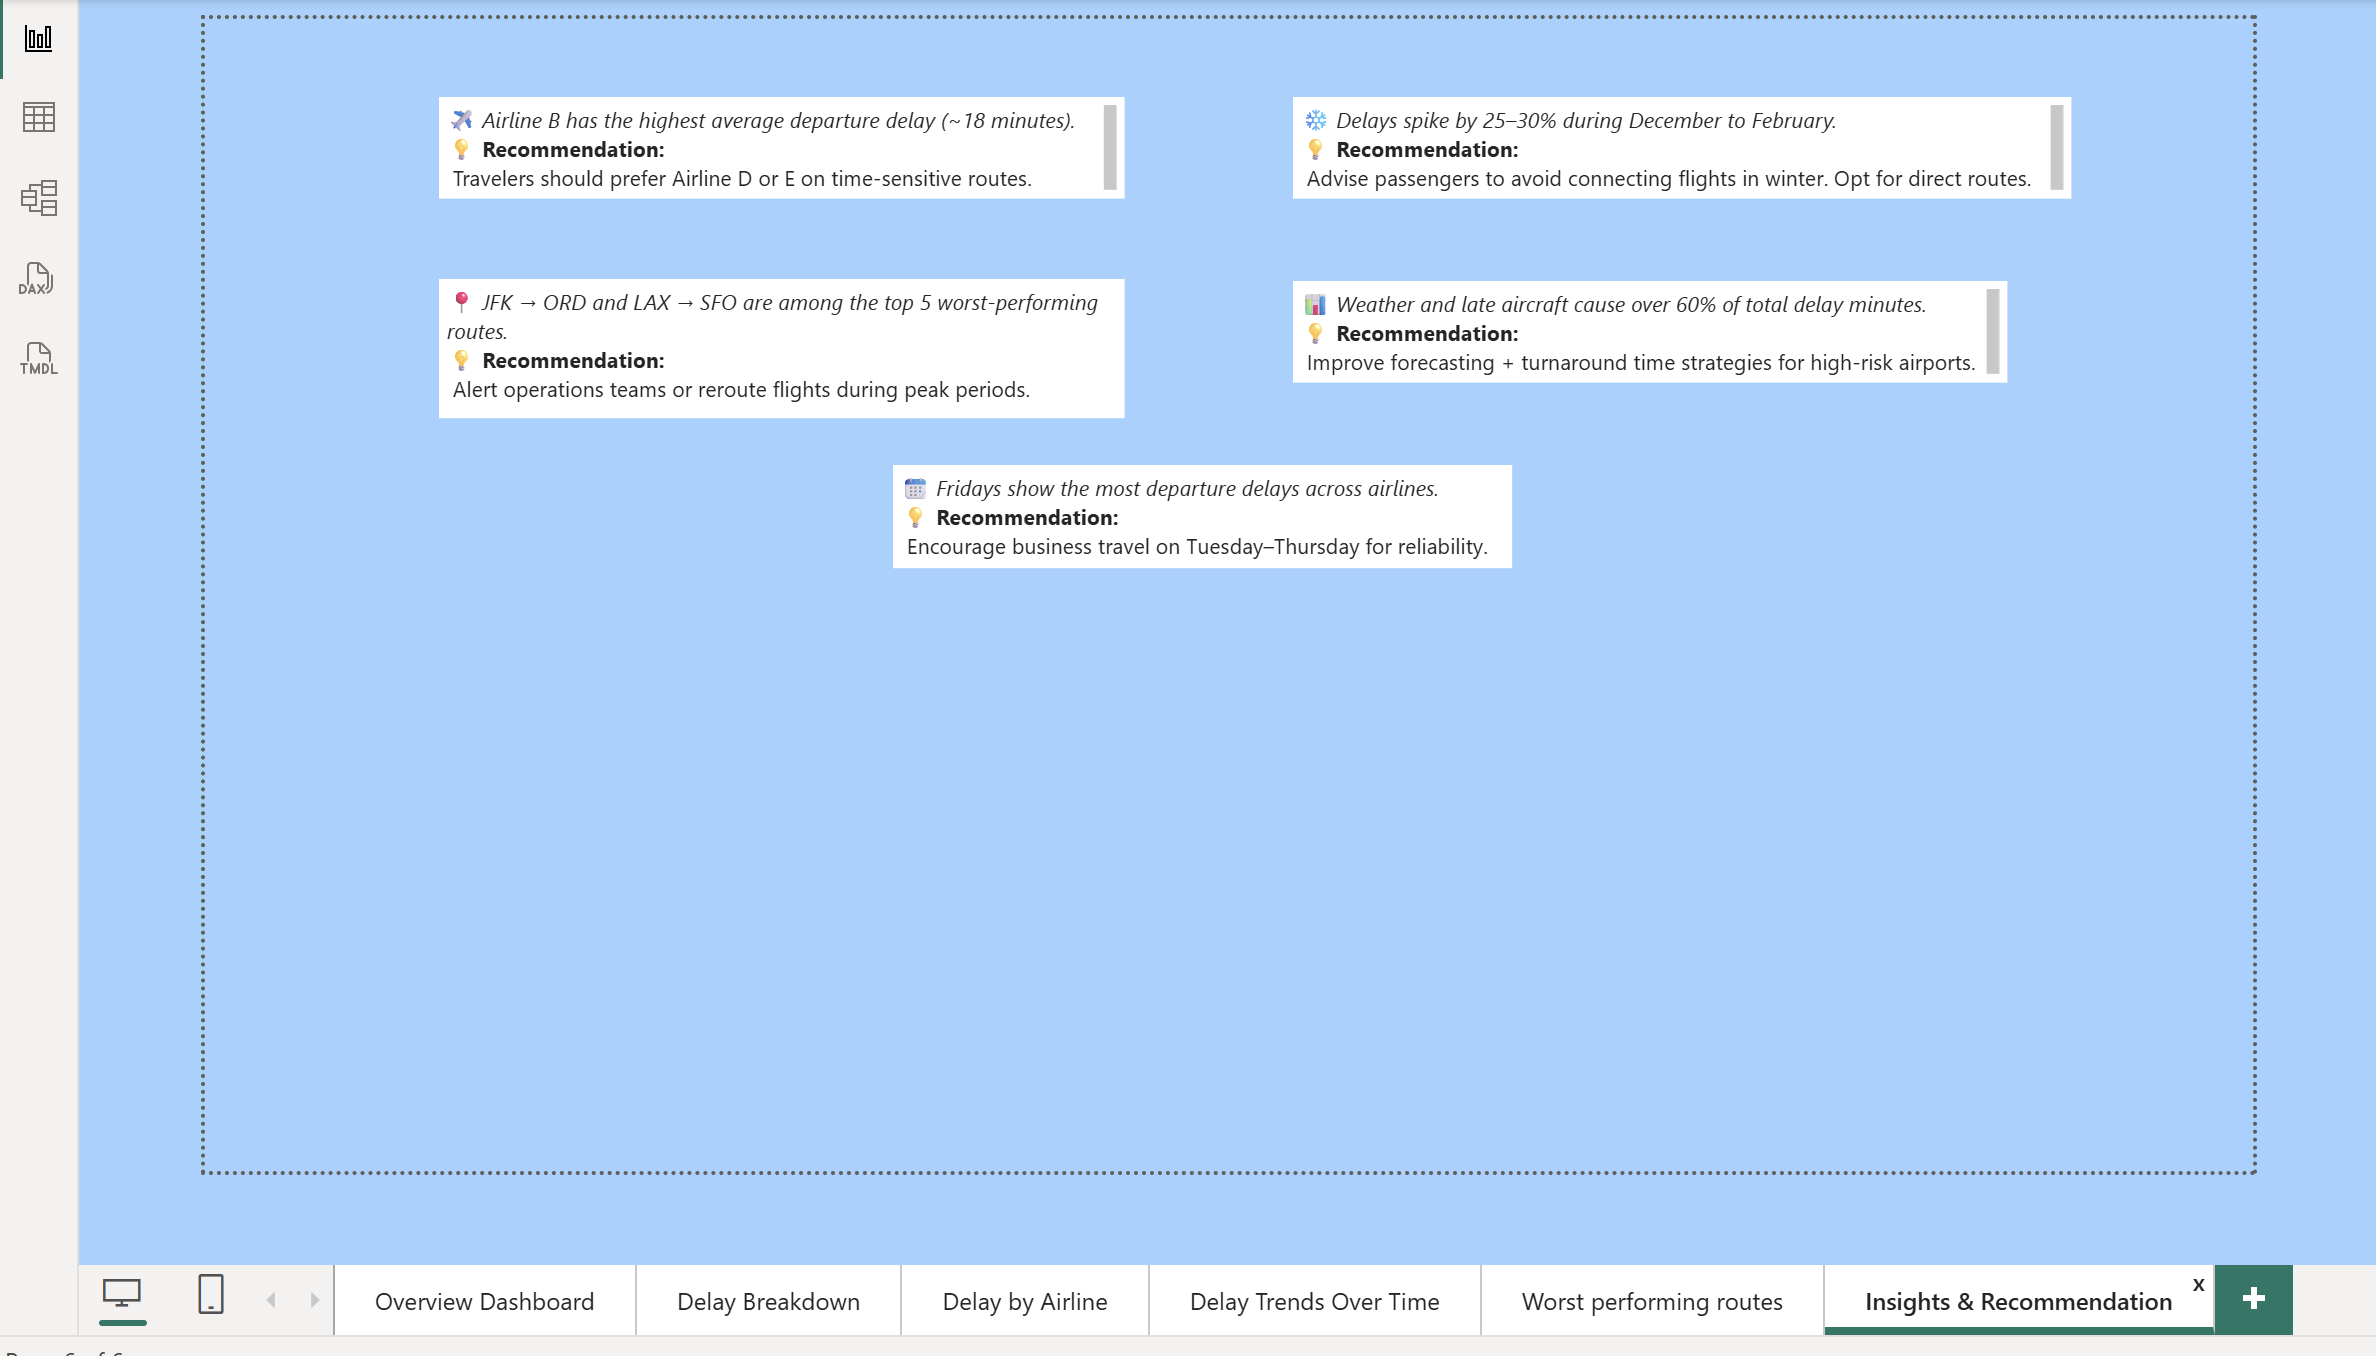

What the dashboard file says about the page in this screenshot:
{"tool":"powerbi","page":{"name":"Insights & Recommendation","canvas":[1280,720],"ordinal":5},"visuals":[{"type":"textbox","box":[146.4,48.3,428.3,63.3],"z":0},{"type":"textbox","box":[430,278.6,387.1,64.3],"z":1000},{"type":"textbox","box":[145.7,162.9,428.6,87.1],"z":2000},{"type":"textbox","box":[679.8,164,446.7,63.3],"z":3000},{"type":"textbox","box":[679.8,49,486.7,63.3],"z":4000}]}

Visuals, with their boxes on the page's 1280x720 design canvas (x1, y1, x2, y2). These are canvas units, not pixel positions in the 2376x1356 screenshot, which may show the page scaled, cropped or inside an application window:
textbox: BBox(146, 48, 575, 112)
textbox: BBox(430, 279, 817, 343)
textbox: BBox(146, 163, 574, 250)
textbox: BBox(680, 164, 1126, 227)
textbox: BBox(680, 49, 1166, 112)
